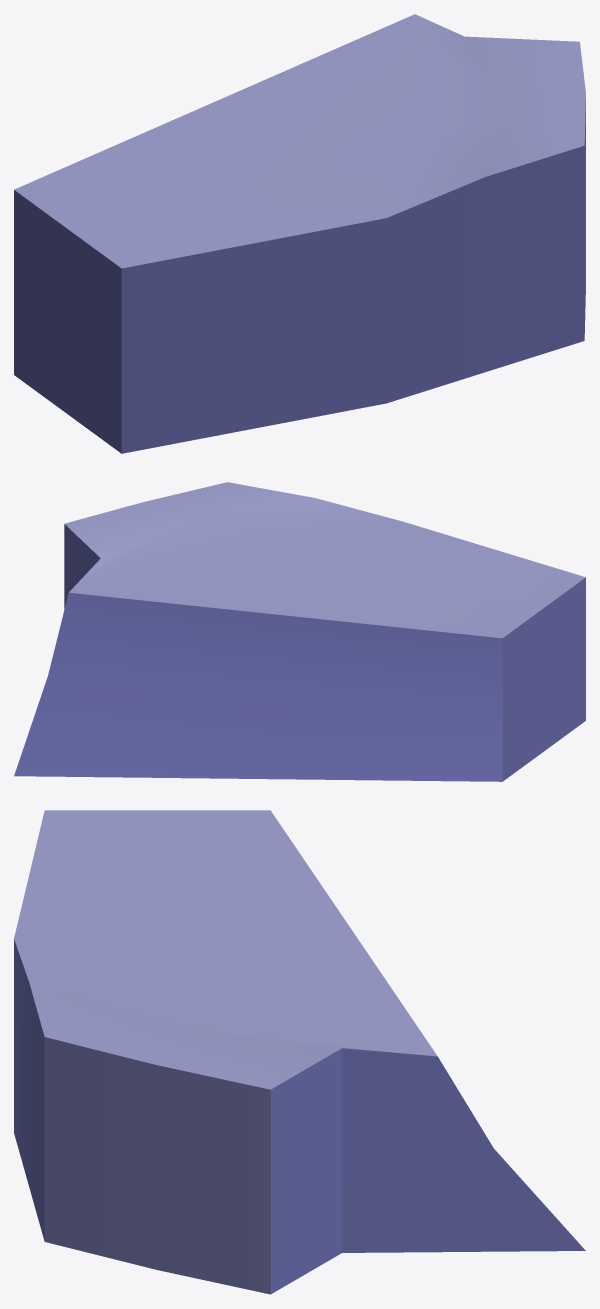
Rendered from Rock1.fbx.
3 renders of one model, top to bottom at view 1: azimuth 30°, elevation 25°; view 2: azimuth 150°, elevation 25°; view 3: azimuth 270°, elevation 25°, orthographic. The views are drawn at different scales.
Parts seen in each view (by area): view 1: Rock1; view 2: Rock1; view 3: Rock1.
Part boxes in pixels (x1,y1,x2,y2): Rock1: (14,14,585,453); Rock1: (14,482,585,781); Rock1: (14,810,585,1294).
Size of the model in its own units: 3.76 by 1.24 by 3.14.
